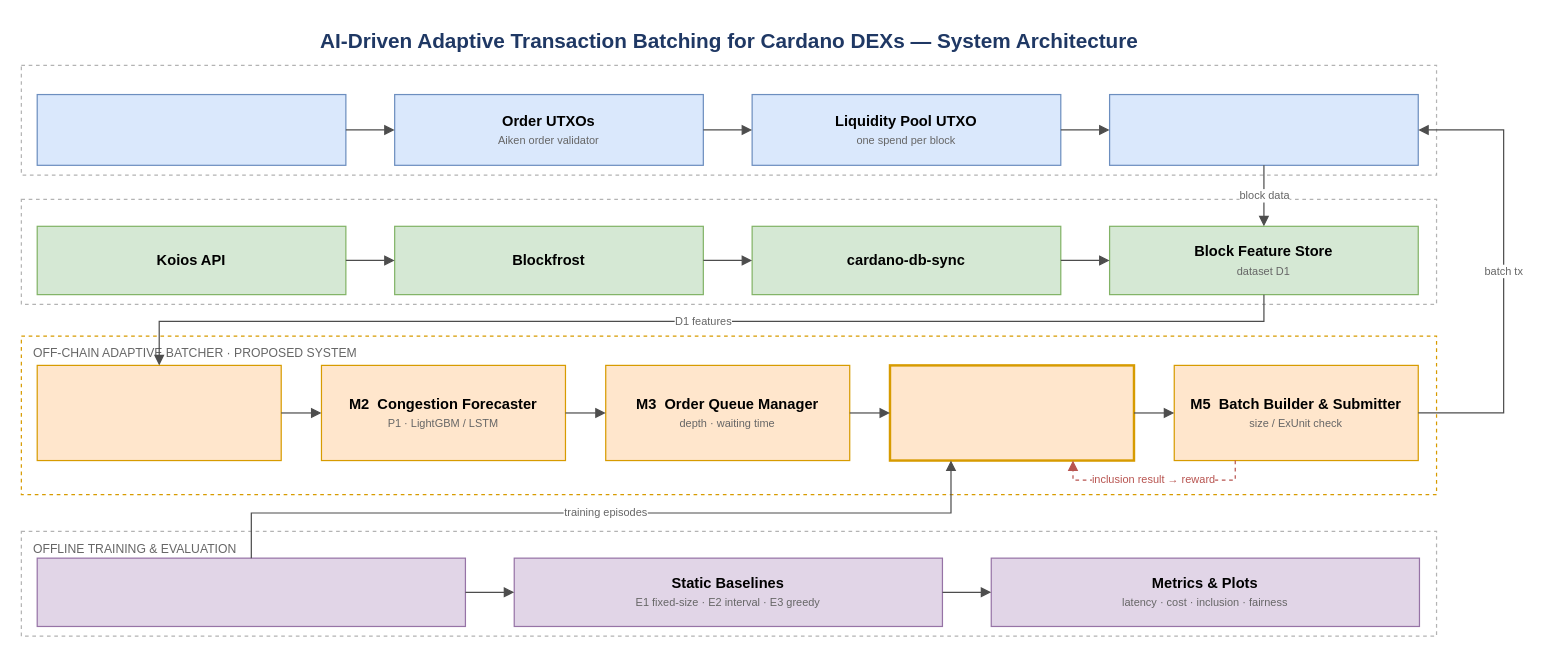
Image size: 1545x658. Some labels were removed from this diagram. The shapes that lost their labels are listed below. From the top down, each one's box as (x1, y1, x2, y2) in pixels, then its label:
(36, 93, 346, 165): User Wallet signs order · CIP-30
(20, 64, 1437, 175): ON-CHAIN · CARDANO PREPROD TESTNET
(1108, 93, 1418, 165): Block Producer 90,112 B · ExUnit caps
(20, 198, 1437, 304): CHAIN DATA SOURCES
(36, 364, 281, 461): M1 Chain Data Collector fill % · ExUnits
(888, 364, 1135, 461): M4 Adaptive Batching Policy P2 optimizer · P3 RL
(36, 557, 465, 626): M6 Discrete-Event Simulator replays real historical blocks
